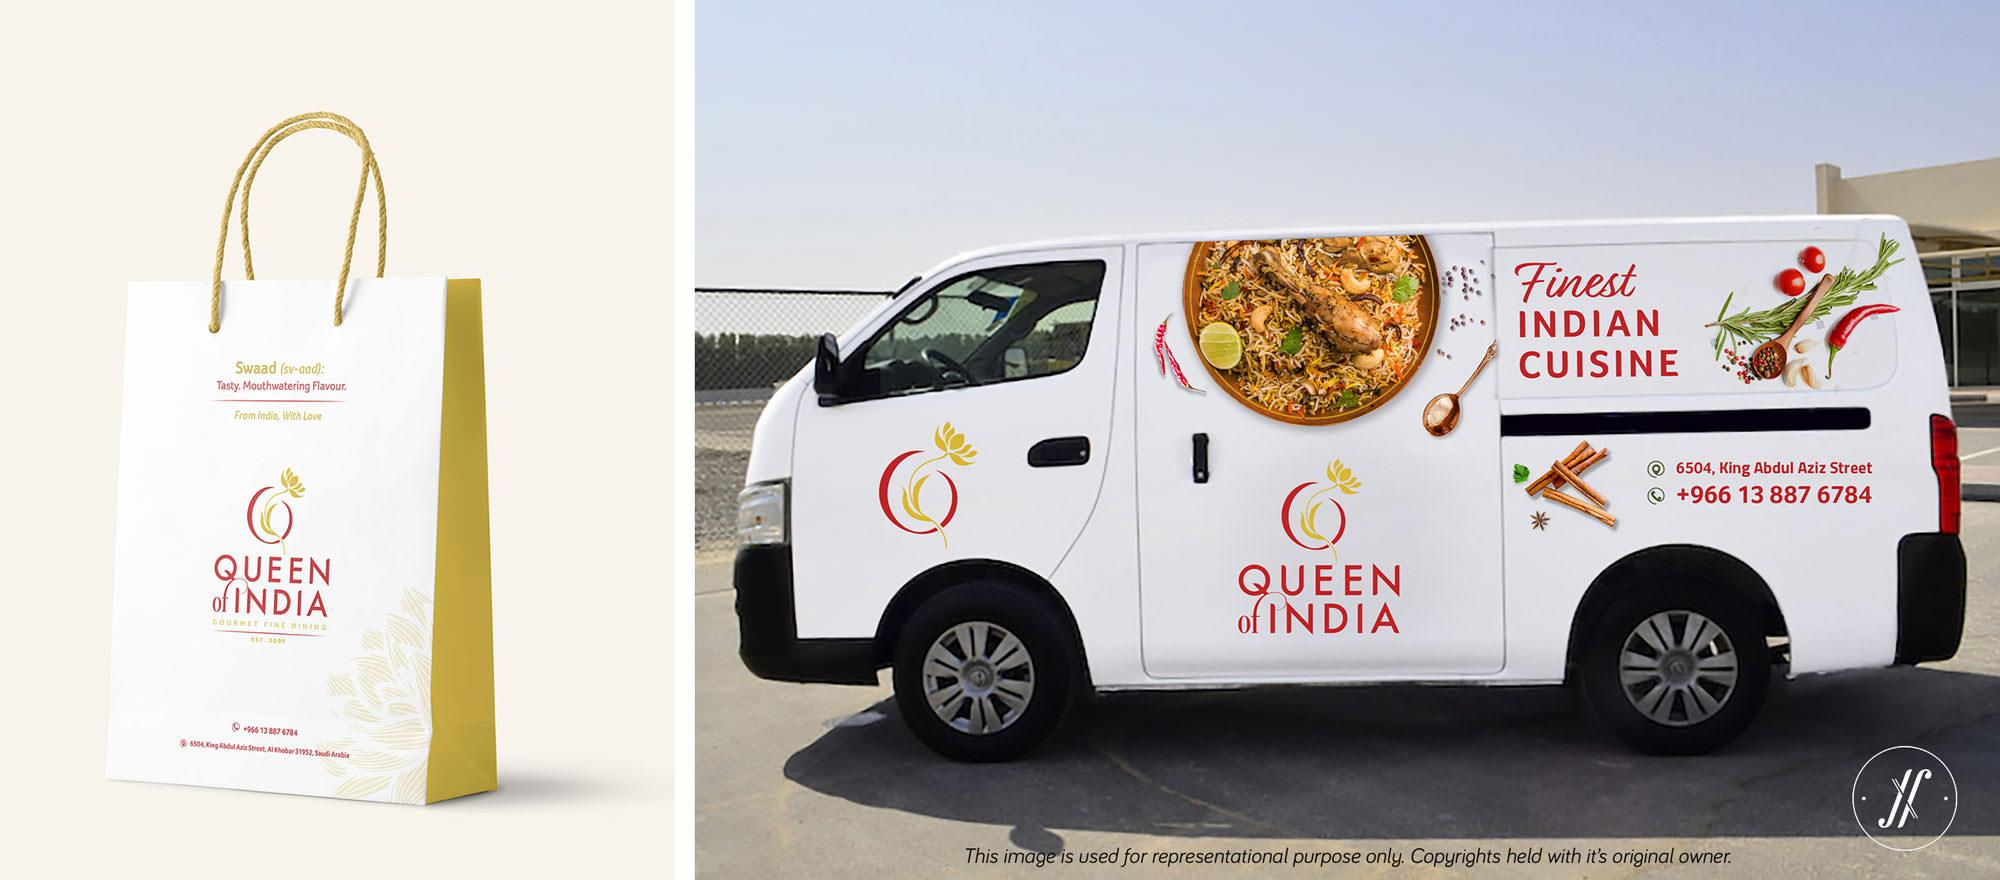van: (730, 210, 1966, 758)
